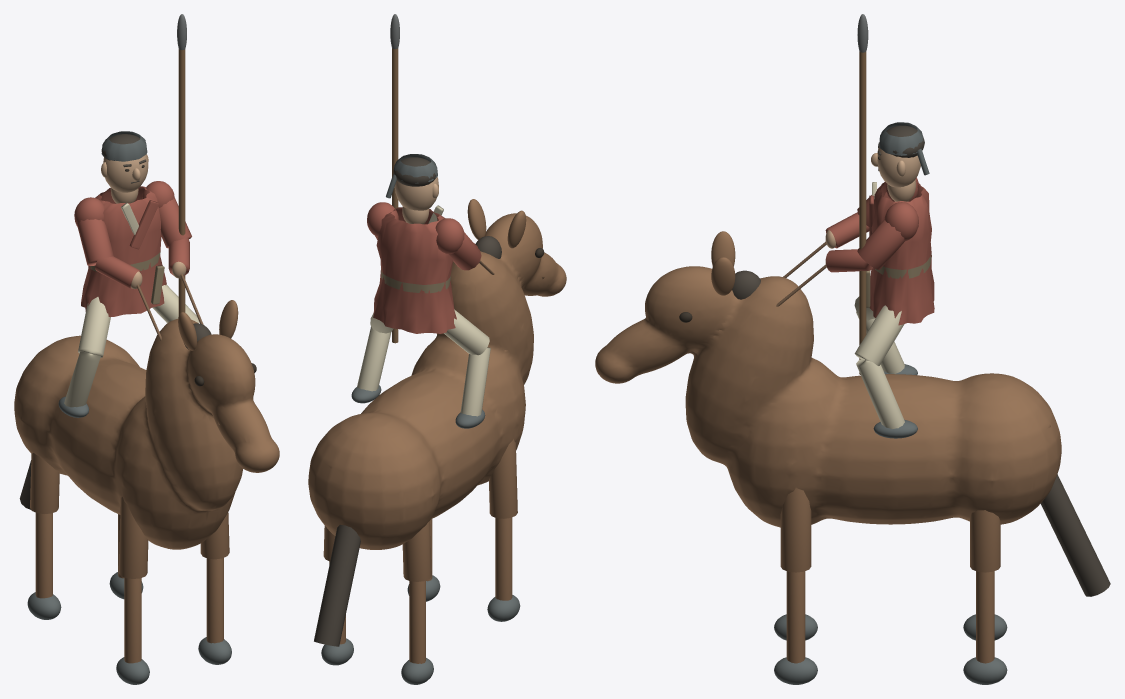
Rendered from cavalry-song.glb.
3 views of the same model, side by side, from view 1: azimuth 30°, elevation 25°; view 2: azimuth 150°, elevation 25°; view 3: azimuth 270°, elevation 25° (orthographic). The views are drawn at different scales.
Parts seen in each view (by area): view 1: Barrel, Cross-collar working coat, Upper leg, Spear, Lower leg, Lower leg.001, Lower leg.002, Upper leg.001, thigh, shin, upper, Face (+14 smaller); view 2: Barrel, Cross-collar working coat, Tail, Upper leg, Lower leg, Lower leg.001, shin, Upper leg.001, shin.001, thigh, Spear, Face (+12 smaller); view 3: Barrel, Cross-collar working coat, Tail, Upper leg.002, Spear, Upper leg.003, Lower leg.002, Lower leg.003, shin.001, thigh.001, upper.001, Face (+5 smaller).
Boxes of the visible parts, left/top/right/bottom form: Barrel: left=14, top=319, right=279, bottom=549; Cross-collar working coat: left=81, top=186, right=166, bottom=316; Upper leg: left=118, top=497, right=148, bottom=578; Spear: left=178, top=49, right=185, bottom=315; Lower leg: left=124, top=577, right=141, bottom=663; Lower leg.001: left=35, top=513, right=52, bottom=598; Lower leg.002: left=206, top=558, right=223, bottom=643; Upper leg.001: left=30, top=453, right=59, bottom=513; thigh: left=78, top=297, right=110, bottom=357; shin: left=64, top=351, right=100, bottom=407; upper: left=77, top=219, right=113, bottom=265; Face: left=103, top=154, right=148, bottom=192; Barrel: left=308, top=213, right=566, bottom=549; Cross-collar working coat: left=373, top=207, right=456, bottom=333; Tail: left=314, top=524, right=360, bottom=646; Upper leg: left=489, top=439, right=517, bottom=518; Lower leg: left=495, top=517, right=512, bottom=600; Lower leg.001: left=409, top=580, right=425, bottom=663; shin: left=460, top=347, right=490, bottom=416; Upper leg.001: left=402, top=521, right=431, bottom=581; shin.001: left=357, top=326, right=391, bottom=391; thigh: left=444, top=309, right=489, bottom=355; Spear: left=392, top=48, right=398, bottom=343; Face: left=394, top=177, right=438, bottom=210; Barrel: left=595, top=266, right=1061, bottom=527; Cross-collar working coat: left=869, top=181, right=934, bottom=325; Tail: left=1040, top=474, right=1110, bottom=596; Upper leg.002: left=780, top=487, right=811, bottom=572; Spear: left=859, top=51, right=866, bottom=374; Upper leg.003: left=970, top=510, right=1000, bottom=572; Lower leg.002: left=786, top=571, right=805, bottom=663; Lower leg.003: left=976, top=571, right=994, bottom=663; shin.001: left=856, top=359, right=904, bottom=428; thigh.001: left=854, top=305, right=904, bottom=365; upper.001: left=857, top=219, right=905, bottom=269; Face: left=877, top=147, right=920, bottom=187.
Bounding box in the file's own units: 0.7251 × 3.35 × 2.34.
